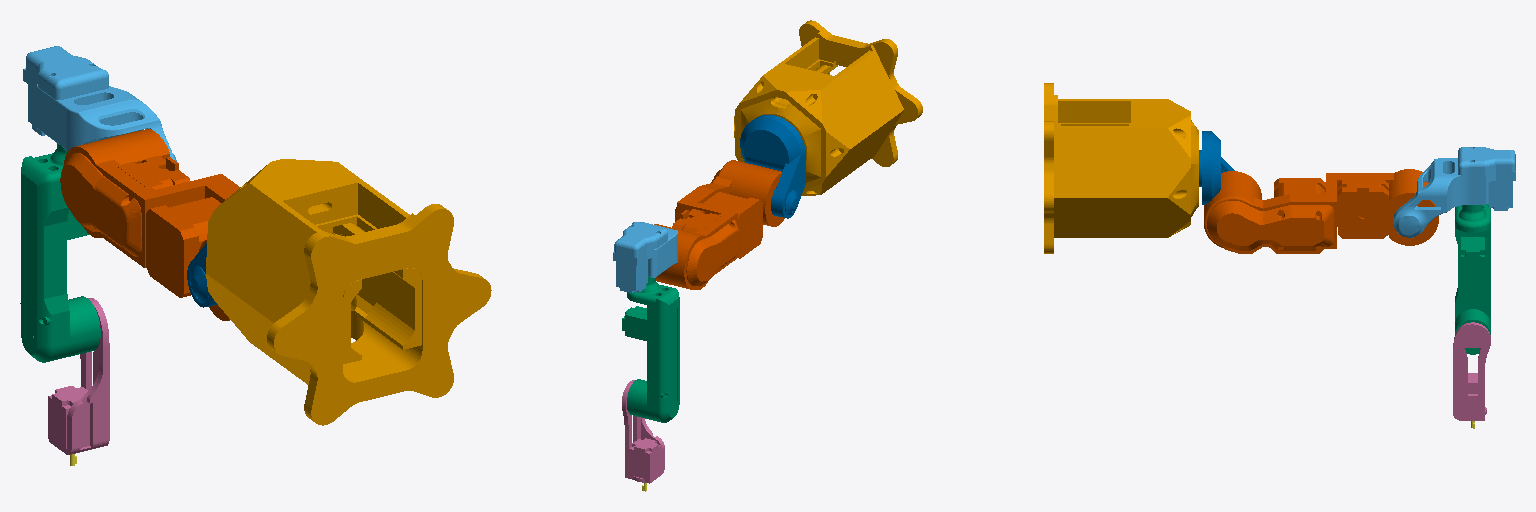
robot.urdf — jy_arm:
<?xml version="1.0" ?>
<!-- =================================================================================== -->
<!-- |    This document was autogenerated by xacro from urdf/jy_arm.xacro              | -->
<!-- |    EDITING THIS FILE BY HAND IS NOT RECOMMENDED                                 | -->
<!-- =================================================================================== -->
<robot xmlns:xacro="http://www.ros.org/wiki/xacro" name="jy_arm">
  <link name="base_link">
    <inertial>
      <origin xyz="-0.00011106458799925955 0.06311159153372557 0.013057877386527852" rpy="0 0 0"/>
      <mass value="5.366253574558696"/>
      <inertia ixx="0.011666" iyy="0.009197" izz="0.013373" ixy="-0.0" iyz="-0.000402" ixz="-0.0"/>
    </inertial>
    <visual>
      <origin xyz="0 0 0" rpy="0 0 0"/>
      <geometry>
        <mesh filename="package://jy_arm_description/meshes/base_link.stl" scale="0.001 0.001 0.001"/>
      </geometry>
      <material name="silver"/>
    </visual>
    <collision>
      <origin xyz="0 0 0" rpy="0 0 0"/>
      <geometry>
        <mesh filename="package://jy_arm_description/meshes/base_link.stl" scale="0.001 0.001 0.001"/>
      </geometry>
    </collision>
  </link>
  <link name="elbow_1">
    <inertial>
      <origin xyz="-0.018598185056512773 0.042969594521089005 0.021525519944900307" rpy="0 0 0"/>
      <mass value="0.47914913697859285"/>
      <inertia ixx="0.000369" iyy="0.000171" izz="0.000397" ixy="8.8e-05" iyz="-4.1e-05" ixz="2.7e-05"/>
    </inertial>
    <visual>
      <origin xyz="-0.024539 -0.301316 0.022486" rpy="0 0 0"/>
      <geometry>
        <mesh filename="package://jy_arm_description/meshes/elbow_1.stl" scale="0.001 0.001 0.001"/>
      </geometry>
      <material name="silver"/>
    </visual>
    <collision>
      <origin xyz="-0.024539 -0.301316 0.022486" rpy="0 0 0"/>
      <geometry>
        <mesh filename="package://jy_arm_description/meshes/elbow_1.stl" scale="0.001 0.001 0.001"/>
      </geometry>
    </collision>
  </link>
  <link name="forearm_1">
    <inertial>
      <origin xyz="-0.009704250720106458 0.0004656574510826794 -0.06766874466878209" rpy="0 0 0"/>
      <mass value="0.5145873026308719"/>
      <inertia ixx="0.000846" iyy="0.000886" izz="0.000112" ixy="2e-06" iyz="1e-06" ixz="-1.6e-05"/>
    </inertial>
    <visual>
      <origin xyz="0.000111 -0.3533 0.012492" rpy="0 0 0"/>
      <geometry>
        <mesh filename="package://jy_arm_description/meshes/forearm_1.stl" scale="0.001 0.001 0.001"/>
      </geometry>
      <material name="silver"/>
    </visual>
    <collision>
      <origin xyz="0.000111 -0.3533 0.012492" rpy="0 0 0"/>
      <geometry>
        <mesh filename="package://jy_arm_description/meshes/forearm_1.stl" scale="0.001 0.001 0.001"/>
      </geometry>
    </collision>
  </link>
  <link name="hand_1">
    <inertial>
      <origin xyz="0.00021385622241918795 8.54127877321087e-05 -0.008045775876672184" rpy="0 0 0"/>
      <mass value="0.0009288640955598442"/>
      <inertia ixx="0.0" iyy="0.0" izz="0.0" ixy="-0.0" iyz="0.0" ixz="0.0"/>
    </inertial>
    <visual>
      <origin xyz="0.000111 -0.3533 0.207992" rpy="0 0 0"/>
      <geometry>
        <mesh filename="package://jy_arm_description/meshes/hand_1.stl" scale="0.001 0.001 0.001"/>
      </geometry>
      <material name="silver"/>
    </visual>
    <collision>
      <origin xyz="0.000111 -0.3533 0.207992" rpy="0 0 0"/>
      <geometry>
        <mesh filename="package://jy_arm_description/meshes/hand_1.stl" scale="0.001 0.001 0.001"/>
      </geometry>
    </collision>
  </link>
  <link name="base_rotor_1">
    <inertial>
      <origin xyz="-0.006646332363299095 0.01292667635559297 -0.005624744916669085" rpy="0 0 0"/>
      <mass value="0.39974448473287827"/>
      <inertia ixx="0.000167" iyy="0.00025" izz="0.000145" ixy="2.8e-05" iyz="3.7e-05" ixz="-6.2e-05"/>
    </inertial>
    <visual>
      <origin xyz="0.000111 -0.1273 -0.012508" rpy="0 0 0"/>
      <geometry>
        <mesh filename="package://jy_arm_description/meshes/base_rotor_1.stl" scale="0.001 0.001 0.001"/>
      </geometry>
      <material name="silver"/>
    </visual>
    <collision>
      <origin xyz="0.000111 -0.1273 -0.012508" rpy="0 0 0"/>
      <geometry>
        <mesh filename="package://jy_arm_description/meshes/base_rotor_1.stl" scale="0.001 0.001 0.001"/>
      </geometry>
    </collision>
  </link>
  <link name="arm_1">
    <inertial>
      <origin xyz="0.021930134761569527 0.07282616378941456 -0.0017490427054493891" rpy="0 0 0"/>
      <mass value="3.0392859375785495"/>
      <inertia ixx="0.009853" iyy="0.001355" izz="0.010273" ixy="0.000887" iyz="-5.6e-05" ixz="9e-06"/>
    </inertial>
    <visual>
      <origin xyz="0.018611 -0.155316 0.022486" rpy="0 0 0"/>
      <geometry>
        <mesh filename="package://jy_arm_description/meshes/arm_1.stl" scale="0.001 0.001 0.001"/>
      </geometry>
      <material name="silver"/>
    </visual>
    <collision>
      <origin xyz="0.018611 -0.155316 0.022486" rpy="0 0 0"/>
      <geometry>
        <mesh filename="package://jy_arm_description/meshes/arm_1.stl" scale="0.001 0.001 0.001"/>
      </geometry>
    </collision>
  </link>
  <link name="wrist_1">
    <inertial>
      <origin xyz="-0.005171387015090242 -0.0025269947515656477 -0.0467670980512126" rpy="0 0 0"/>
      <mass value="0.18202125492055582"/>
      <inertia ixx="9.5e-05" iyy="9.5e-05" izz="2.2e-05" ixy="0.0" iyz="-1e-06" ixz="-1.4e-05"/>
    </inertial>
    <visual>
      <origin xyz="-0.009689 -0.3533 0.137492" rpy="0 0 0"/>
      <geometry>
        <mesh filename="package://jy_arm_description/meshes/wrist_1.stl" scale="0.001 0.001 0.001"/>
      </geometry>
      <material name="silver"/>
    </visual>
    <collision>
      <origin xyz="-0.009689 -0.3533 0.137492" rpy="0 0 0"/>
      <geometry>
        <mesh filename="package://jy_arm_description/meshes/wrist_1.stl" scale="0.001 0.001 0.001"/>
      </geometry>
    </collision>
  </link>
  <joint name="arm_to_elbow" type="continuous">
    <origin xyz="0.04315 0.146 0.0" rpy="0 0 0"/>
    <parent link="arm_1"/>
    <child link="elbow_1"/>
    <axis xyz="1.0 0.0 -0.0"/>
  </joint>
  <joint name="elbow_to_forearm" type="continuous">
    <origin xyz="-0.02465 0.051984 0.009994" rpy="0 0 0"/>
    <parent link="elbow_1"/>
    <child link="forearm_1"/>
    <axis xyz="-0.0 -0.0 -1.0"/>
  </joint>
  <joint name="wrist_to_arm" type="continuous">
    <origin xyz="-0.0098 0.0 -0.0705" rpy="0 0 0"/>
    <parent link="wrist_1"/>
    <child link="hand_1"/>
    <axis xyz="0.0 0.0 -1.0"/>
  </joint>
  <joint name="base_link_to_base_rotor" type="continuous">
    <origin xyz="-0.000111 0.1273 0.012508" rpy="0 0 0"/>
    <parent link="base_link"/>
    <child link="base_rotor_1"/>
    <axis xyz="-0.0 1.0 0.0"/>
  </joint>
  <joint name="base_rotor_to_arm" type="continuous">
    <origin xyz="-0.0185 0.028016 -0.034994" rpy="0 0 0"/>
    <parent link="base_rotor_1"/>
    <child link="arm_1"/>
    <axis xyz="1.0 0.0 -0.0"/>
  </joint>
  <joint name="forearm_to_wrist" type="continuous">
    <origin xyz="0.0098 0.0 -0.125" rpy="0 0 0"/>
    <parent link="forearm_1"/>
    <child link="wrist_1"/>
    <axis xyz="1.0 -0.0 -0.0"/>
  </joint>
</robot>

--- Facts derived from the render (not from the file) ---
Views: 3 orthographic renders of the robot side by side, from view 1: azimuth 30°, elevation 25°; view 2: azimuth 150°, elevation 25°; view 3: azimuth 270°, elevation 25°.
Robot: jy_arm — 7 links, 6 joints (6 continuous); root link base_link; default pose: all joints at 0.
Links seen in each view (by area): view 1: base_link, arm_1, forearm_1, elbow_1, wrist_1, base_rotor_1; view 2: base_link, arm_1, forearm_1, base_rotor_1, elbow_1, wrist_1; view 3: base_link, arm_1, elbow_1, forearm_1, wrist_1, base_rotor_1.
Link boxes in pixels (bbox=[...]): base_link: bbox=[206, 159, 491, 425]; arm_1: bbox=[60, 129, 239, 320]; forearm_1: bbox=[20, 143, 100, 362]; elbow_1: bbox=[23, 46, 177, 162]; wrist_1: bbox=[48, 298, 109, 454]; base_rotor_1: bbox=[187, 243, 216, 307]; base_link: bbox=[734, 20, 922, 195]; arm_1: bbox=[654, 160, 784, 289]; forearm_1: bbox=[622, 276, 679, 422]; base_rotor_1: bbox=[740, 115, 805, 218]; elbow_1: bbox=[613, 222, 677, 292]; wrist_1: bbox=[622, 380, 664, 483]; base_link: bbox=[1044, 83, 1198, 253]; arm_1: bbox=[1204, 169, 1438, 253]; elbow_1: bbox=[1393, 147, 1515, 237]; forearm_1: bbox=[1455, 204, 1490, 354]; wrist_1: bbox=[1453, 322, 1490, 420]; base_rotor_1: bbox=[1199, 131, 1234, 204].
Bounding box of the posed robot: 0.1431 × 0.3885 × 0.2947 m (x, y, z).
Meshes: 7 distinct files referenced, 7 mesh visuals loaded (7 binary STL).
